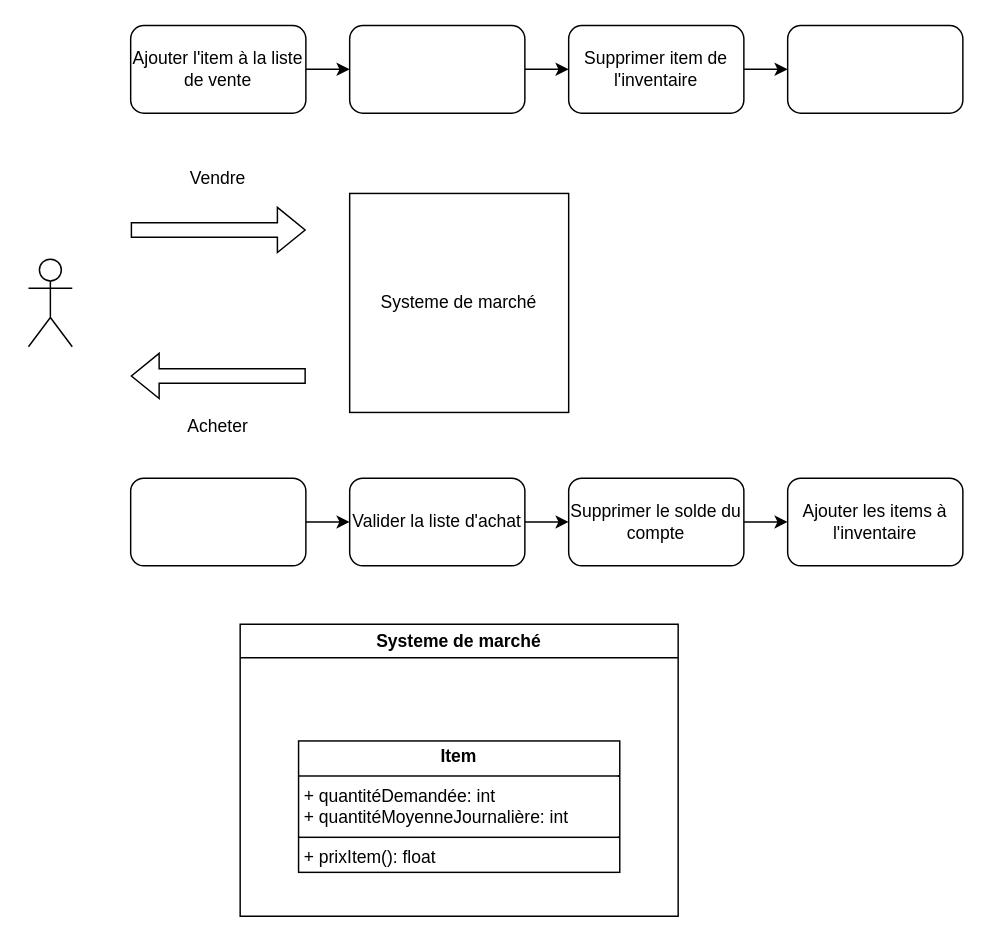
Image size: 988x942. Some labels were removed from this diagram. The centre of each missing label's shape, as x and y in pixels:
"Ajouter l'item à la liste d'achat" belongs at (217,521).
"Ajouter solde au compte" belongs at (874,68).
"Player" belongs at (49,302).
"Valider la liste de vente" belongs at (436,68).
